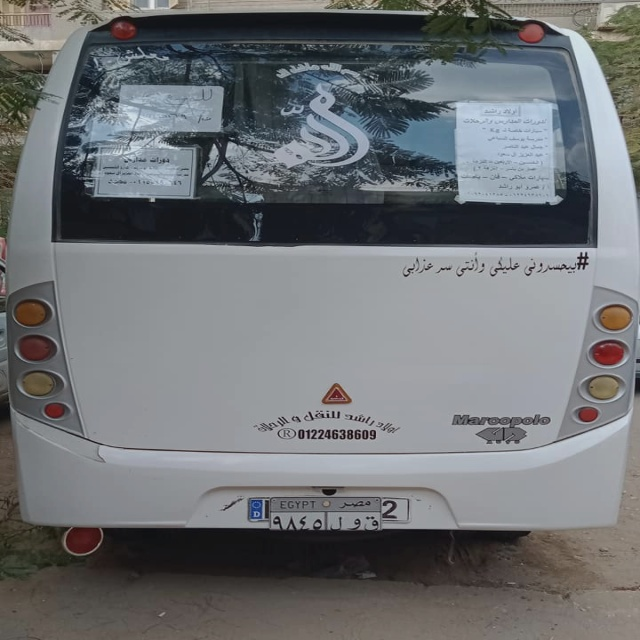License Plate: (268, 494, 384, 535)
